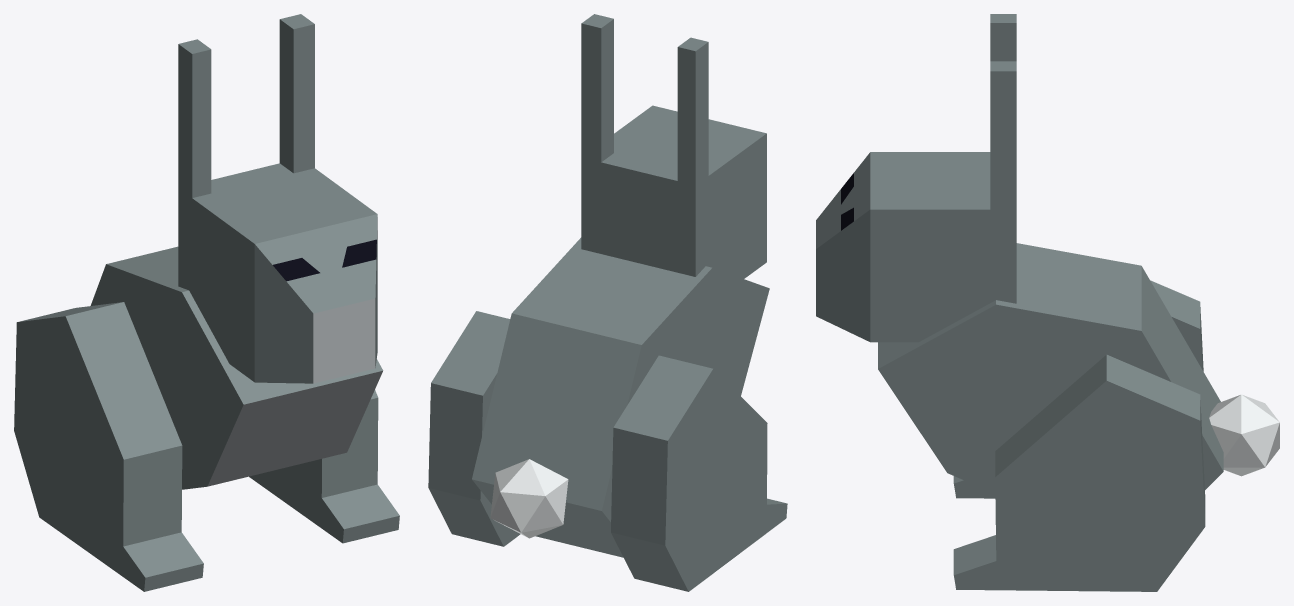
The model's file is rabbit.fbx.
3 views of the same model, side by side, from view 1: azimuth 30°, elevation 25°; view 2: azimuth 150°, elevation 25°; view 3: azimuth 270°, elevation 25° (orthographic). The views are drawn at different scales.
Visible parts, largest first — view 1: rabbit; view 2: rabbit; view 3: rabbit.
Boxes of the visible parts, x1,y1,x2,y2 form: rabbit: (14, 14, 399, 591); rabbit: (428, 14, 787, 591); rabbit: (816, 14, 1279, 591).
Bounding box in the file's own units: 53.54 × 103 × 88.17.
